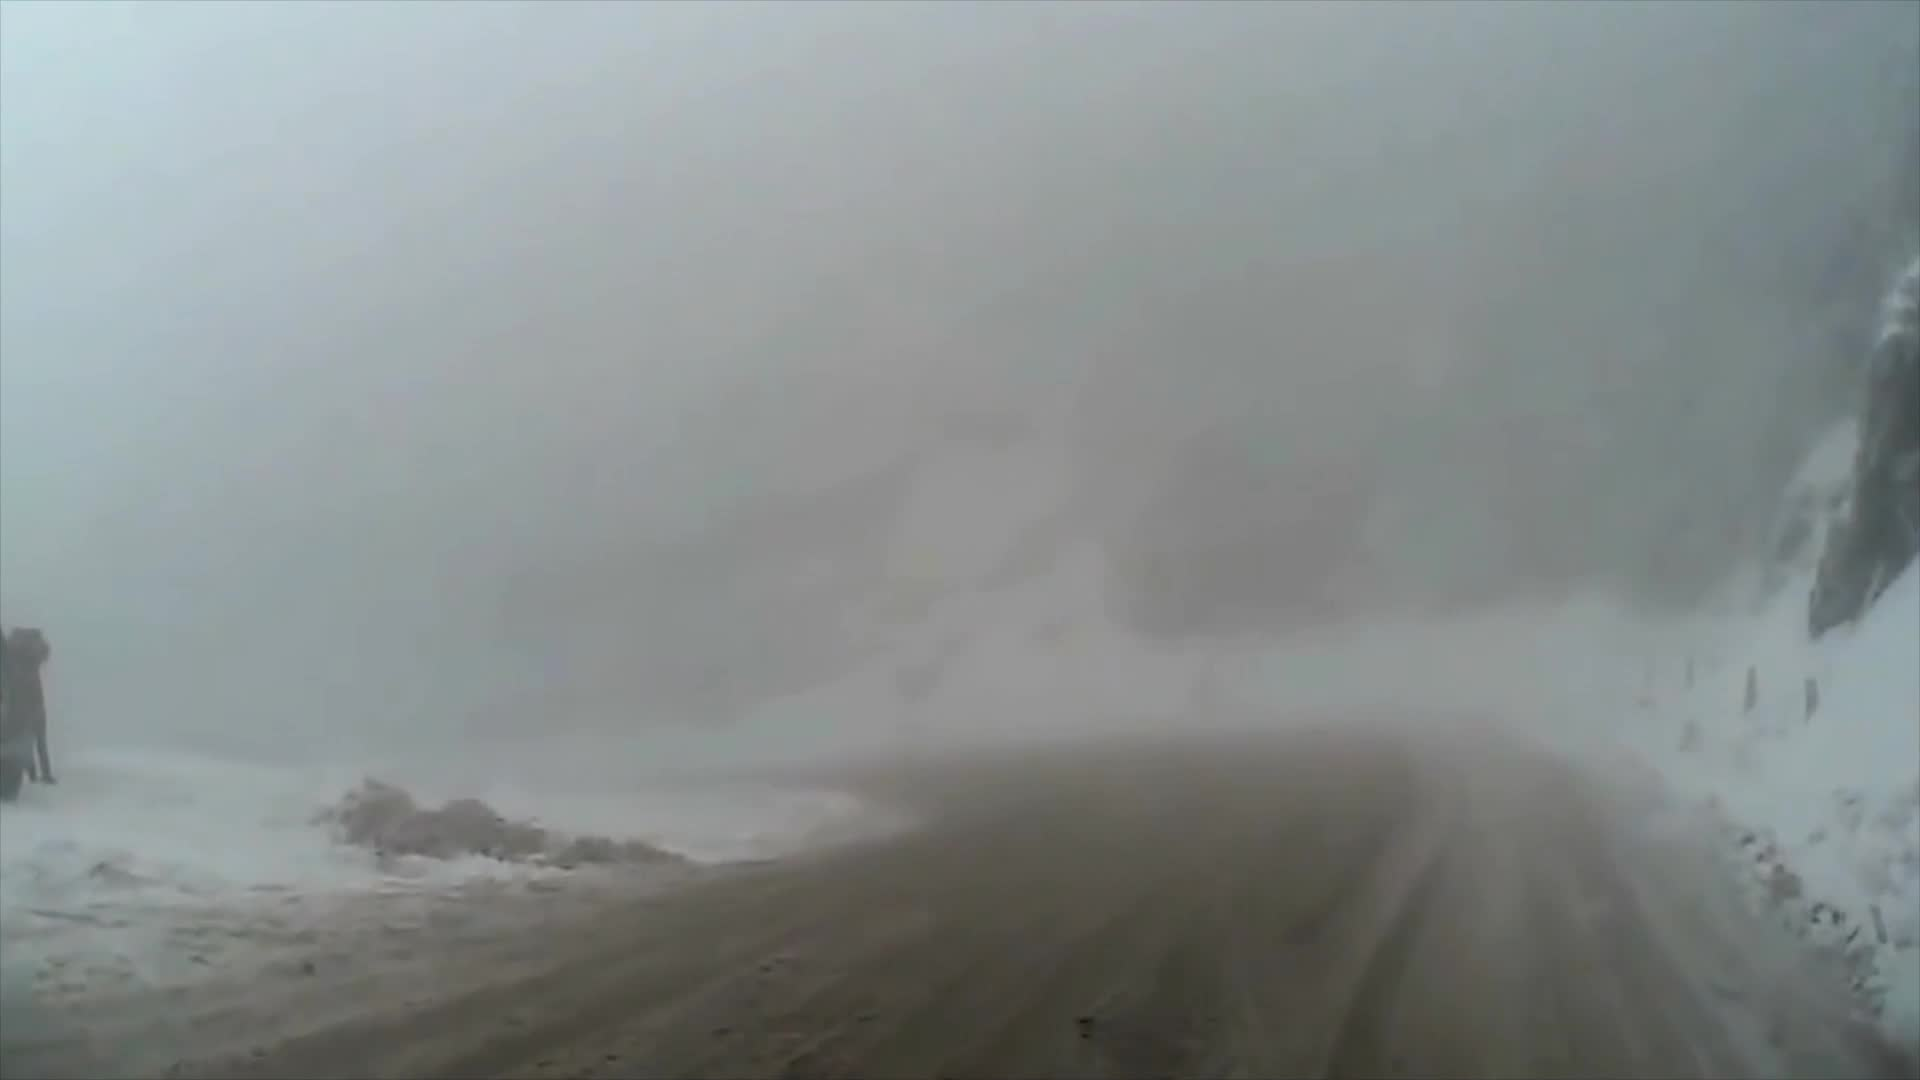vehicle: (0, 624, 26, 807)
